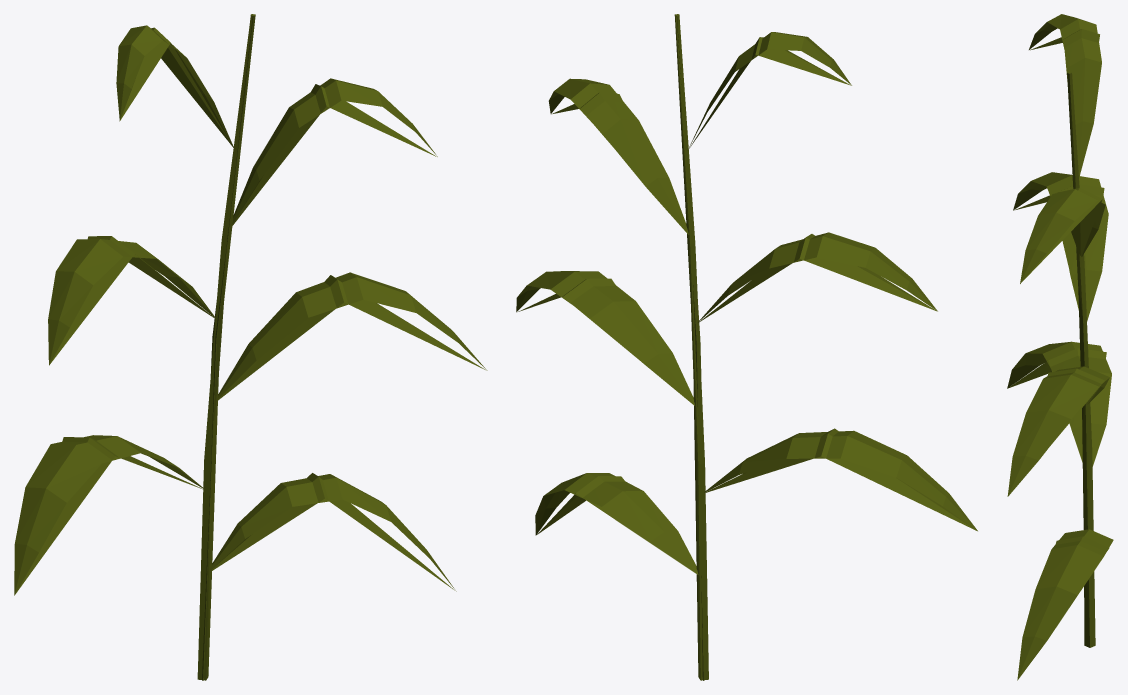
Rendered from crop_01.dae.
3 renders of one model, left to right at view 1: azimuth 30°, elevation 25°; view 2: azimuth 150°, elevation 25°; view 3: azimuth 270°, elevation 25°, orthographic. The views are drawn at different scales.
Parts seen in each view (by area): view 1: plant64, plant8; view 2: plant64, plant8; view 3: plant64, plant8.
Part boxes in pixels (x1,y1,x2,y2): plant64: (14,14,486,680); plant8: (14,14,485,680); plant64: (516,14,977,680); plant8: (518,14,976,680); plant64: (1007,14,1113,680); plant8: (1008,29,1109,642).
Bounding box in the file's own units: 1.31 × 0.287 × 1.78.
